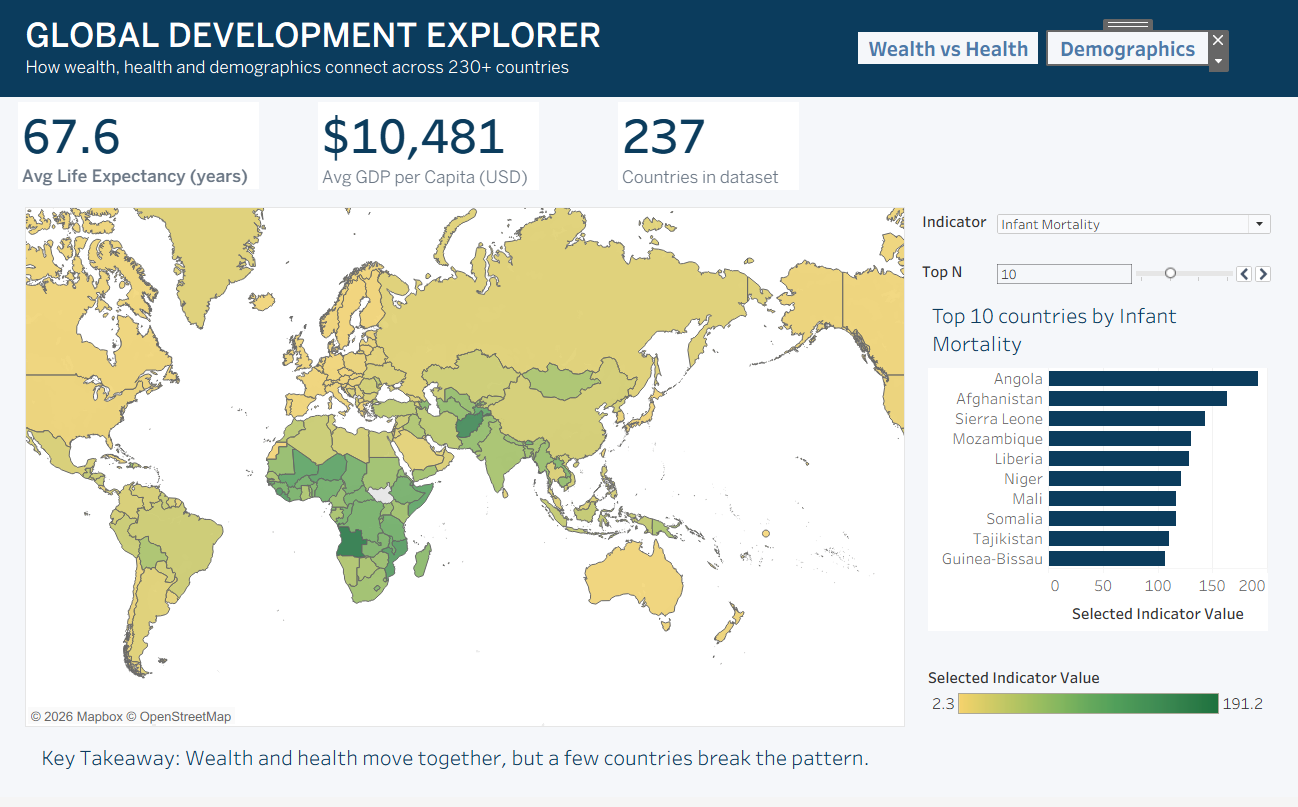

What the dashboard file says about the page in this screenshot:
{"tool":"tableau","page":{"name":"Overview","canvas":[1300,800],"ordinal":2},"visuals":[{"type":"text","box":[0,0,1300,100]},{"type":"dashboard-object","box":[860,35,180,32]},{"type":"dashboard-object","box":[1050,35,160,32]},{"type":"worksheet","title":"KPI - Life Exp","mark":"Automatic","box":[20,105,280,100]},{"type":"worksheet","title":"KPI - GDP","mark":"Automatic","box":[320,105,280,100]},{"type":"worksheet","title":"KPI - Countries","mark":"Automatic","box":[620,105,280,100]},{"type":"worksheet","title":"Map - GDP per capita","mark":"Multipolygon","box":[27,210,880,520]},{"type":"parameter","param":"[Parameters].[Parameter 0857673348657153]","box":[920,210,360,50]},{"type":"parameter","param":"[Parameters].[Parameter 1369221142724609]","box":[920,260,360,50]},{"type":"worksheet","title":"Bar - Top Countries","mark":"Automatic","rows":["Country"],"cols":["Calculation_0857673349140482"],"box":[930,300,340,360]},{"type":"legend","title":"Map - GDP per capita","param":"[federated.0q8atft0r1wttc118wfz90tcrx2s].[sum:Calculation_0857673349140482:qk]","box":[930,670,340,60]},{"type":"text","box":[27,735,880,50]}]}

Visuals, with their boxes in screenshot pixels (x1, y1, x2, y2), scaled from the page's 1300x800 canvas onto the 1298x807 screenshot:
text: locate(0, 0, 1297, 101)
dashboard-object: locate(859, 35, 1038, 68)
dashboard-object: locate(1048, 35, 1208, 68)
"KPI - Life Exp" worksheet: locate(20, 106, 300, 207)
"KPI - GDP" worksheet: locate(320, 106, 599, 207)
"KPI - Countries" worksheet: locate(619, 106, 899, 207)
"Map - GDP per capita" worksheet (Multipolygon marks): locate(27, 212, 906, 736)
parameter: locate(919, 212, 1278, 262)
parameter: locate(919, 262, 1278, 313)
"Bar - Top Countries" worksheet: locate(929, 303, 1268, 666)
"Map - GDP per capita" legend: locate(929, 676, 1268, 736)
text: locate(27, 741, 906, 792)
